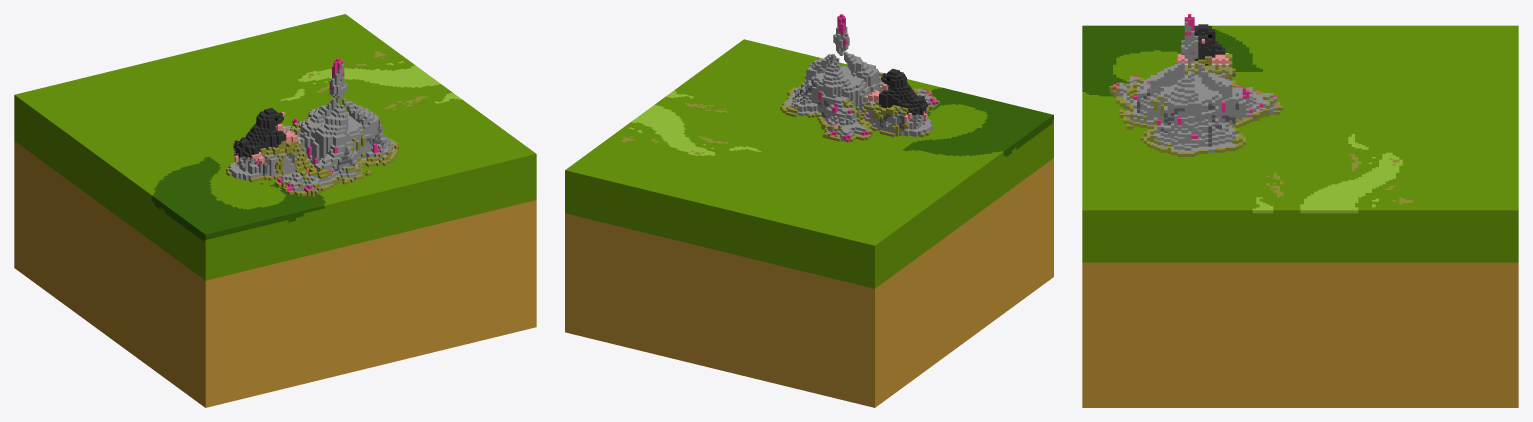
The picture shows the model from 3 angles, left to right: view 1: azimuth 30°, elevation 25°; view 2: azimuth 150°, elevation 25°; view 3: azimuth 270°, elevation 25°; orthographic projection. The views are drawn at different scales.
Parts seen in each view (by area): view 1: 3H.001; view 2: 3H.001; view 3: 3H.001.
Boxes of the visible parts, <box> form: 3H.001: <box>14,14,536,407</box>; 3H.001: <box>565,14,1053,407</box>; 3H.001: <box>1082,14,1518,407</box>.
Size of the model in its own units: 12.8 by 10 by 12.8.
1 material, 1 textured.
